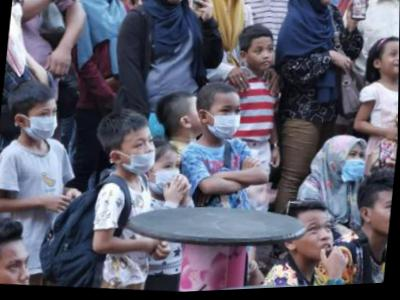NONE: (300, 219, 338, 265), (1, 247, 36, 287), (248, 41, 276, 75), (384, 50, 399, 84)
OK: (210, 101, 243, 143), (151, 158, 185, 198), (30, 104, 60, 142), (342, 150, 369, 187)
WRONG: (120, 133, 159, 178)
